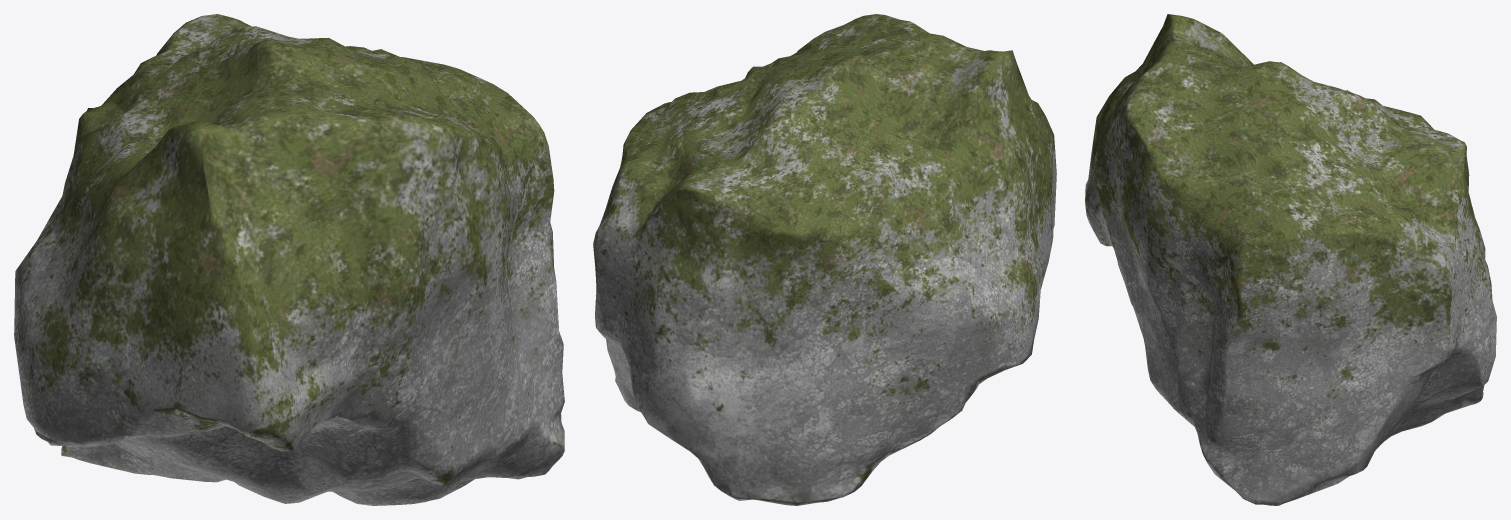
Rendered from rock1-transformed.glb.
3 renders of one model, left to right at view 1: azimuth 30°, elevation 25°; view 2: azimuth 150°, elevation 25°; view 3: azimuth 270°, elevation 25°, orthographic. The views are drawn at different scales.
Parts seen in each view (by area): view 1: QuarryRock04_QuarryRock04Shader_0; view 2: QuarryRock04_QuarryRock04Shader_0; view 3: QuarryRock04_QuarryRock04Shader_0.
Boxes of the visible parts, x1,y1,x2,y2 form: QuarryRock04_QuarryRock04Shader_0: (14,14,564,505); QuarryRock04_QuarryRock04Shader_0: (593,14,1056,505); QuarryRock04_QuarryRock04Shader_0: (1085,14,1496,505).
Bounding box in the file's own units: 1.92 × 1.84 × 1.87.
1 material, 1 textured.
